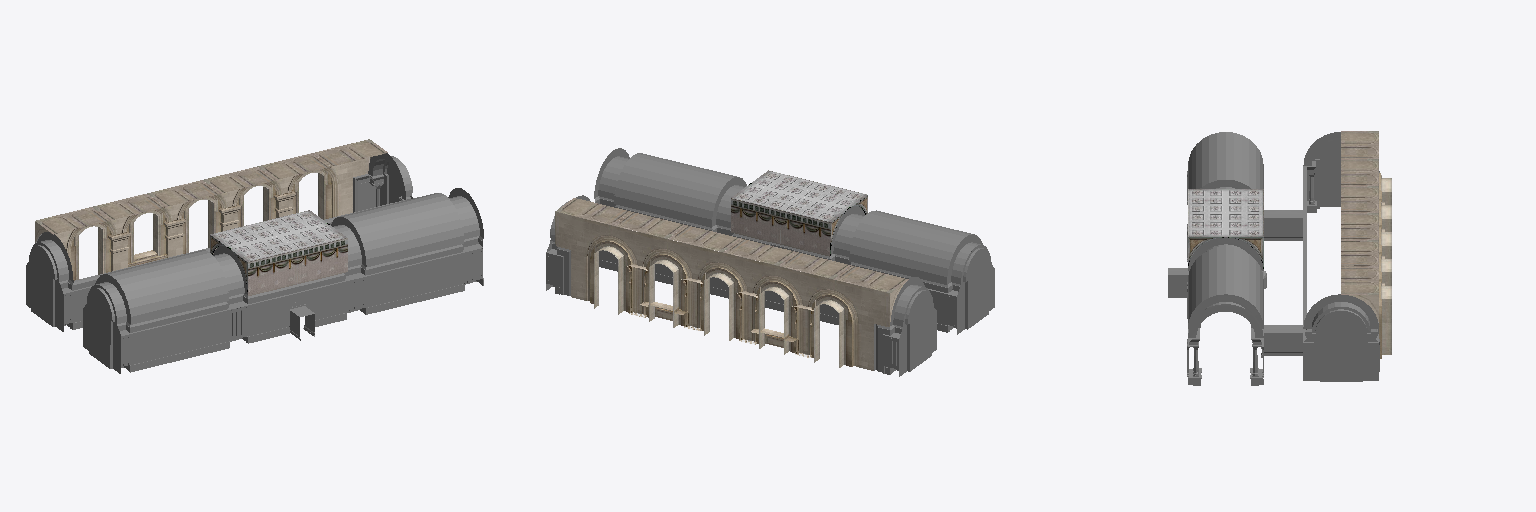
3 renders of one model, left to right at view 1: azimuth 30°, elevation 25°; view 2: azimuth 150°, elevation 25°; view 3: azimuth 270°, elevation 25°, orthographic.
Visible parts, largest first — view 1: Gang_Dach_Ecke004, Object051, Object052, Gang_Wand_Standart088, Gang_Wand_Standart086, Box014, WindowWalk_Endst�ck005, Gang_Cap_Bogen007, Gang_Cap_Bogen008, Box024, Box023, Box022 (+14 smaller); view 2: Gang_Dach_Ecke004, Object051, Object052, WindowWalk_Endst�ck004, Box025, Box022, Box024, Box023, WindowWalk_Endst�ck005, Gang_Cap_Bogen007, Gang_Cap_Bogen008, Box021 (+8 smaller); view 3: Gang_Cap_Bogen009, Gang_Dach_Ecke004, Object051, Object052, WindowWalk_Endst�ck005, Gang_Endst�ck082, Gang_Cap_Bogen008, Box023, Box024, Box025, Box022, Gang_Endst�ck085 (+9 smaller).
Boxes of the visible parts, <box> form: Gang_Dach_Ecke004: <box>210,210,347,295</box>; Object051: <box>340,193,463,266</box>; Object052: <box>106,250,228,324</box>; Gang_Wand_Standart088: <box>130,302,229,371</box>; Gang_Wand_Standart086: <box>365,244,464,314</box>; Box014: <box>248,273,347,342</box>; WindowWalk_Endst�ck005: <box>312,139,387,219</box>; Gang_Cap_Bogen007: <box>83,285,120,373</box>; Gang_Cap_Bogen008: <box>26,242,63,331</box>; Box024: <box>91,194,164,274</box>; Box023: <box>146,180,220,255</box>; Box022: <box>201,167,274,247</box>; Gang_Dach_Ecke004: <box>731,170,867,256</box>; Object051: <box>614,153,736,227</box>; Object052: <box>849,210,971,284</box>; WindowWalk_Endst�ck004: <box>827,266,908,370</box>; Box025: <box>606,212,685,321</box>; Box022: <box>662,225,741,335</box>; Box024: <box>772,252,851,362</box>; Box023: <box>717,239,795,348</box>; WindowWalk_Endst�ck005: <box>555,198,630,308</box>; Gang_Cap_Bogen007: <box>957,245,994,334</box>; Gang_Cap_Bogen008: <box>899,287,936,376</box>; Box021: <box>599,250,838,324</box>; Gang_Cap_Bogen009: <box>1303,307,1378,381</box>; Gang_Dach_Ecke004: <box>1188,189,1263,268</box>; Object051: <box>1188,247,1263,325</box>; Object052: <box>1188,132,1263,188</box>; WindowWalk_Endst�ck005: <box>1341,267,1391,358</box>; Gang_Endst�ck082: <box>1188,294,1263,385</box>; Gang_Cap_Bogen008: <box>1307,139,1340,208</box>; Box023: <box>1341,186,1391,233</box>; Box024: <box>1341,159,1391,206</box>; Box025: <box>1341,240,1391,286</box>; Box022: <box>1341,213,1391,259</box>; Gang_Endst�ck085: <box>1303,294,1378,342</box>.
Bounding box in the file's own units: 45.71 × 9.75 × 24.16.
Materials: 7 (2 with a texture image).